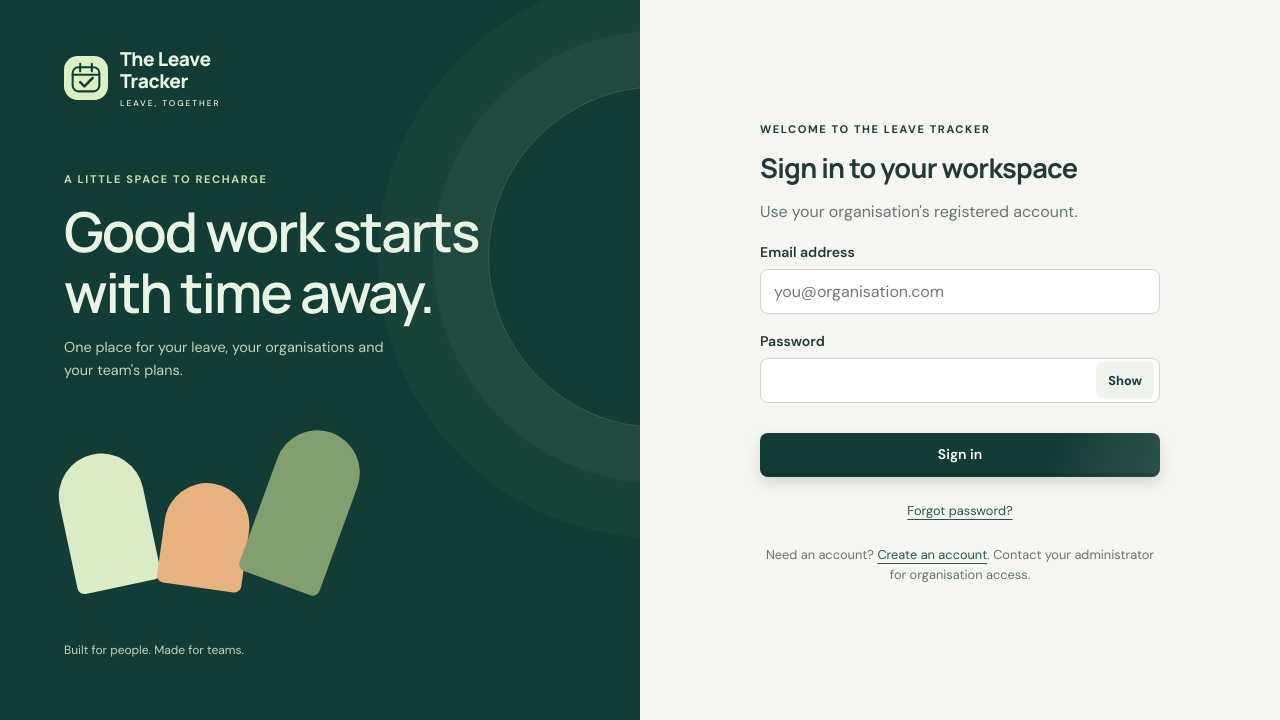
Test: Frontend integration flows › shows and hides the sign-in password without submitting or changing its value
In the password field labelled "Password": (960, 380) x1=760 y1=358 x2=1160 y2=402, type "ExamplePassword123!"
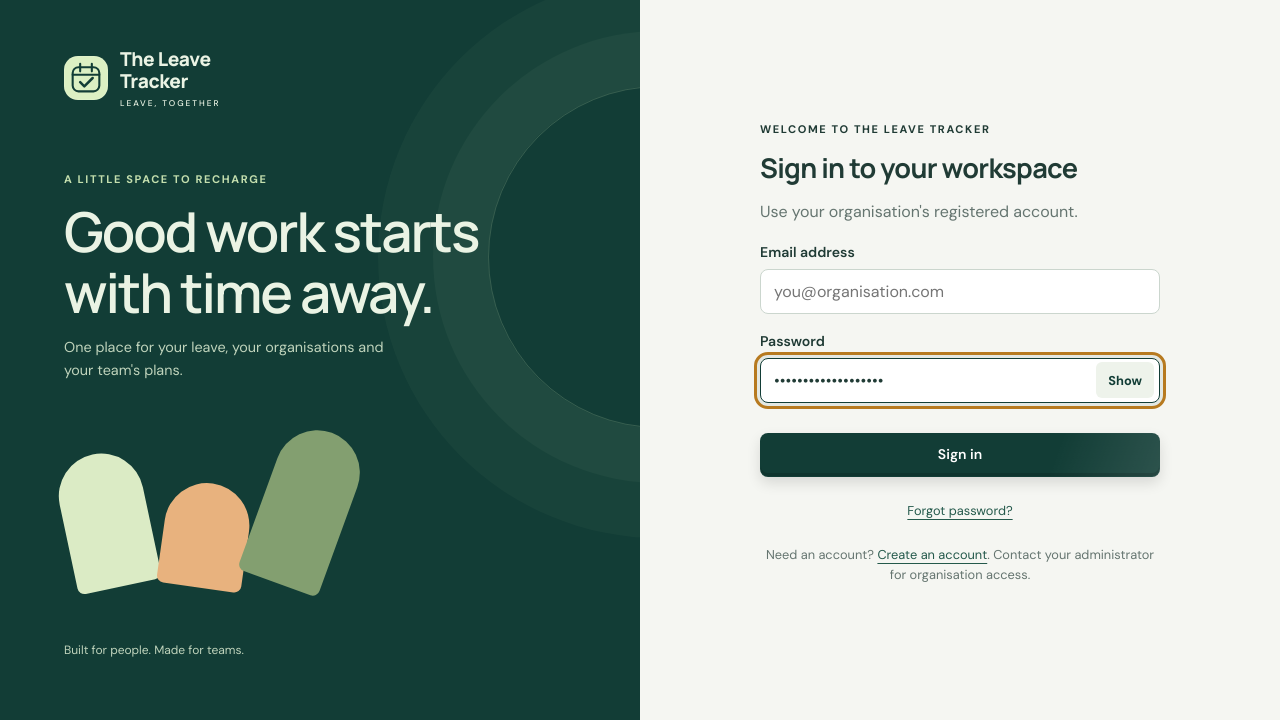
Click the button with aria-label "Show password": (1125, 380) x1=1096 y1=362 x2=1154 y2=398
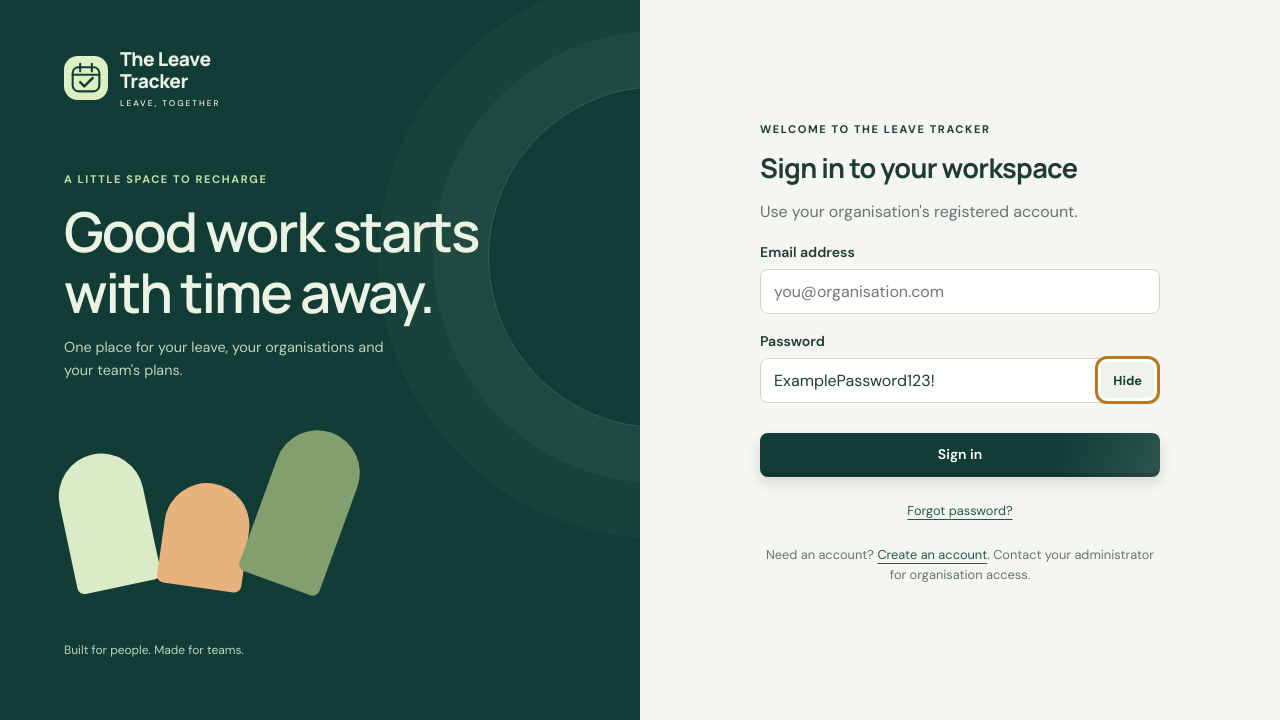
Now the field labelled "Password" shows its text, box x1=760 y1=358 x2=1160 y2=402
Click the button with aria-label "Hide password": (1128, 380) x1=1101 y1=362 x2=1154 y2=398
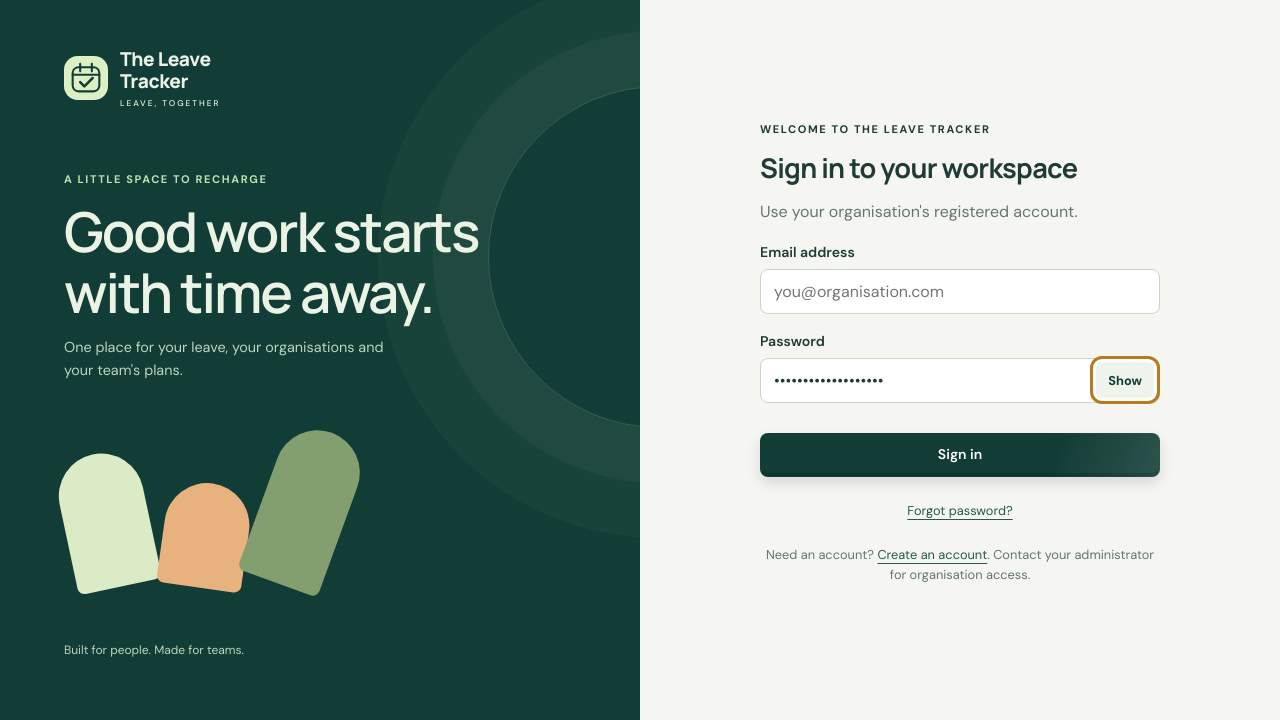
Now the password field labelled "Password" hides its text, box x1=760 y1=358 x2=1160 y2=402
